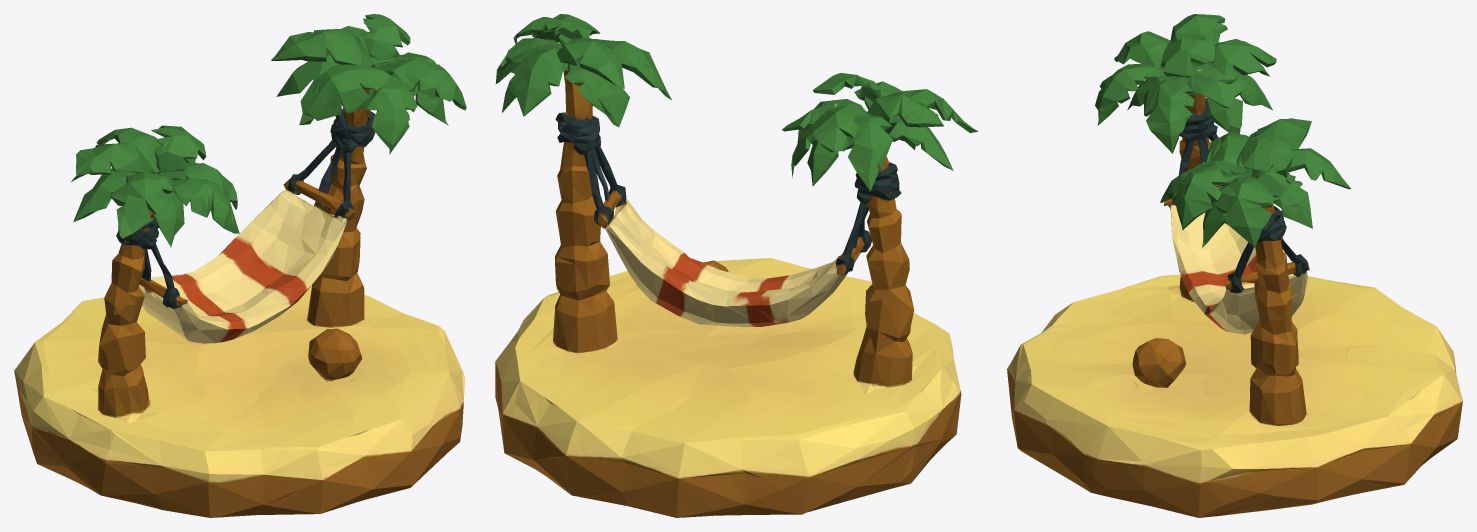
Rendered from island-hammock.glb.
3 views of the same model, side by side, from view 1: azimuth 30°, elevation 25°; view 2: azimuth 150°, elevation 25°; view 3: azimuth 270°, elevation 25° (orthographic). The views are drawn at different scales.
Parts seen in each view (by area): view 1: tripo_node_6250908d-c724-41c8-913f-6cf65630391d; view 2: tripo_node_6250908d-c724-41c8-913f-6cf65630391d; view 3: tripo_node_6250908d-c724-41c8-913f-6cf65630391d.
Part boxes in pixels (x1,y1,x2,y2): tripo_node_6250908d-c724-41c8-913f-6cf65630391d: [14, 14, 466, 517]; tripo_node_6250908d-c724-41c8-913f-6cf65630391d: [495, 14, 978, 517]; tripo_node_6250908d-c724-41c8-913f-6cf65630391d: [1007, 14, 1462, 517].
Size of the model in its own units: 0.9994 by 0.8511 by 0.9675.
1 material, 1 textured.
